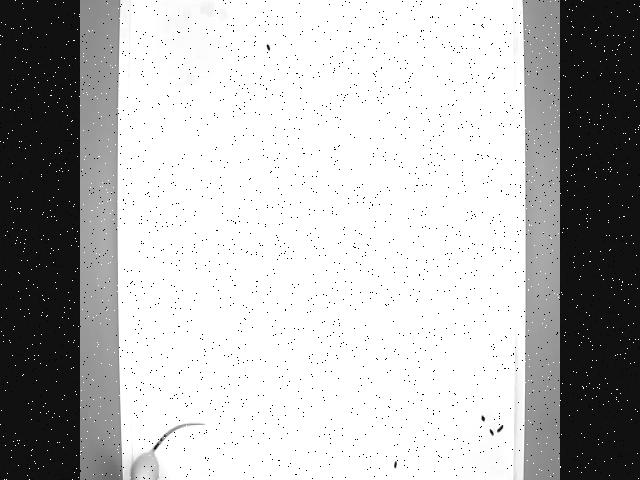Tikus: (128, 417, 208, 480)
